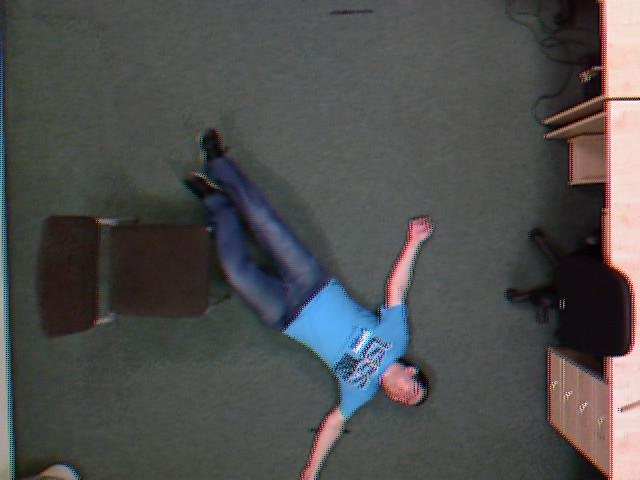fall: (168, 123, 470, 480)
